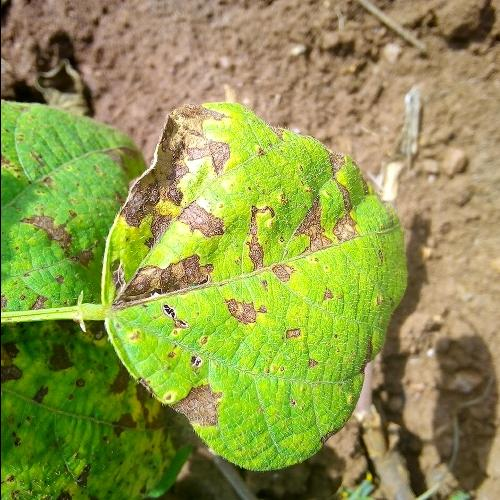hawar: (117, 90, 366, 326), (118, 330, 247, 443)
